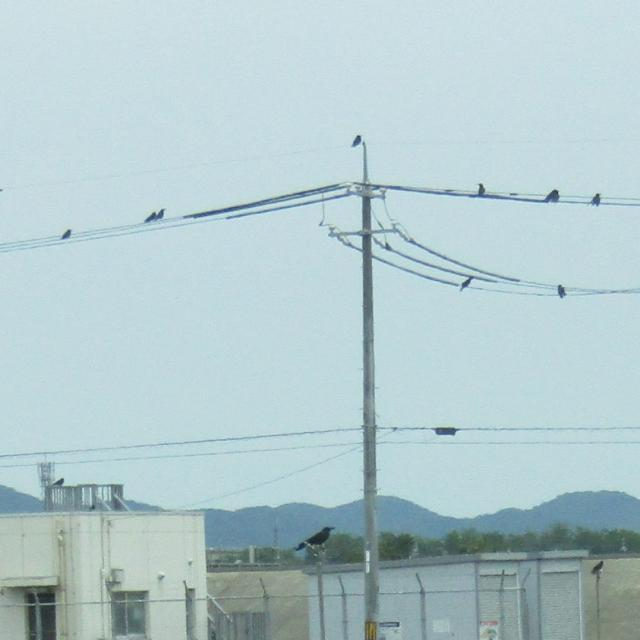pole: (314, 127, 416, 640)
